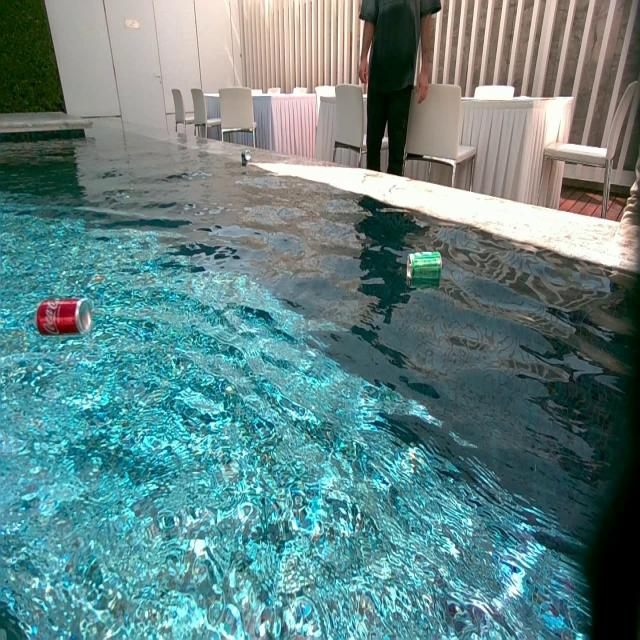Cans: (38, 299, 94, 338), (409, 252, 441, 284), (242, 148, 252, 164)
